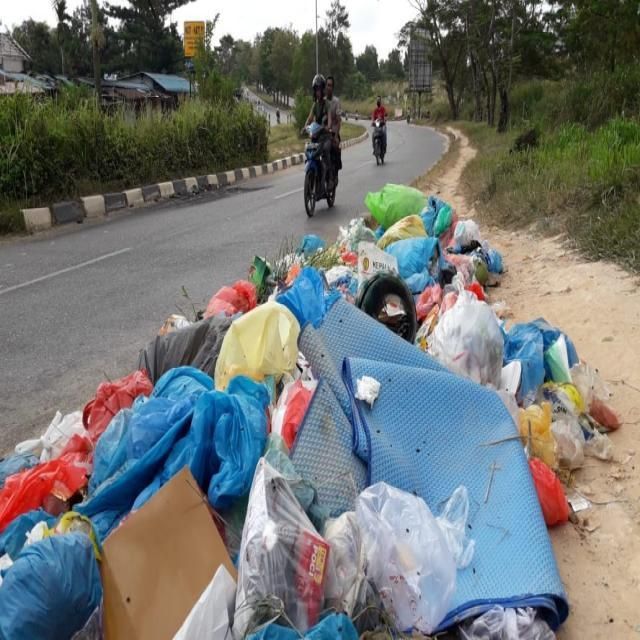high trash: (0, 185, 619, 640)
